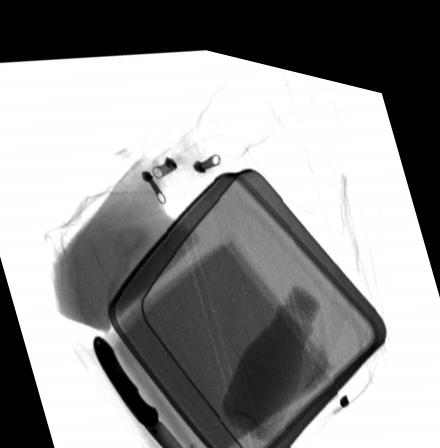Knife: (91, 328, 192, 448)
